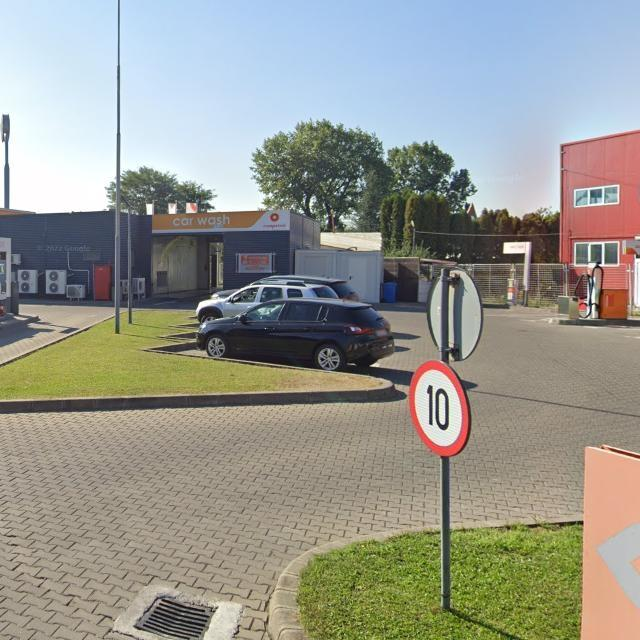forb_speed_over_10: (408, 359, 473, 458)
